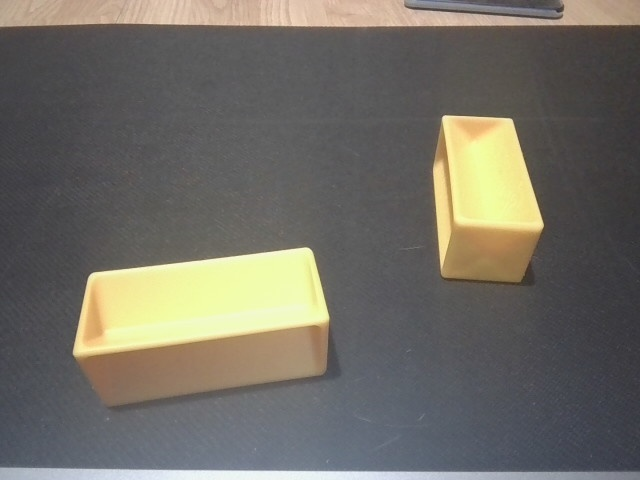YellowSample: (70, 244, 333, 411), (429, 113, 547, 289)
